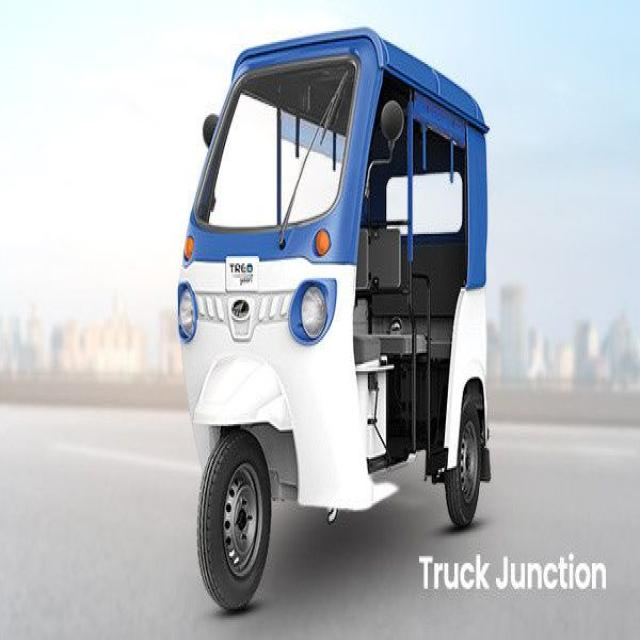autorickshaw: (176, 28, 490, 607)
